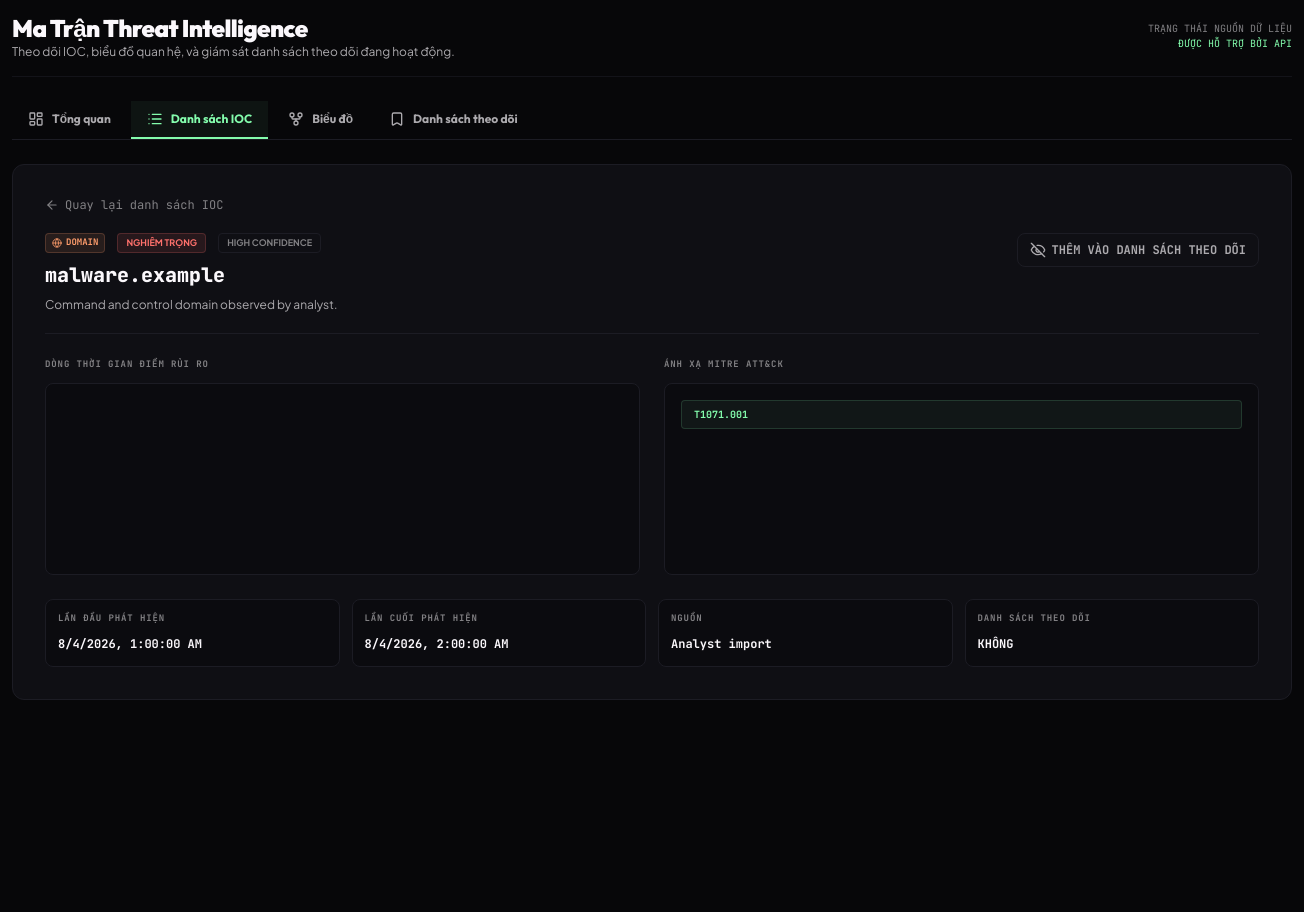
it: Threat Intelligence API-backed views › loads a detail record and persists watchlist changes through the API
This screenshot has width=1304, height=912.
Expected: the text "malware.example" is shown, [45,262,225,288]
Click the button "THÊM VÀO DANH SÁCH THEO DÕI". click: (1138, 250)
box: [1017,233,1259,267]
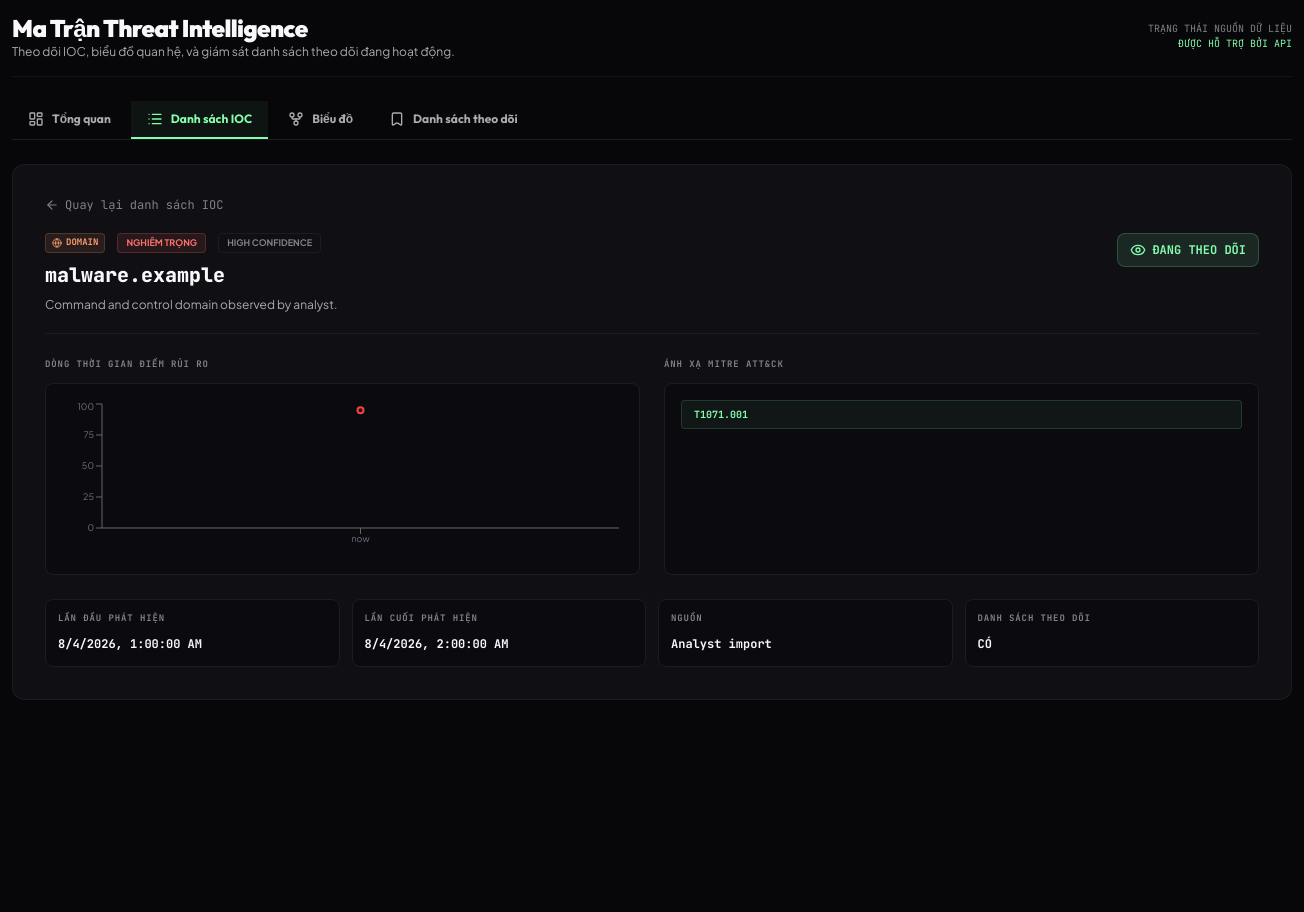
Result: the button "ĐANG THEO DÕI" is shown at [1117,233,1259,267]
